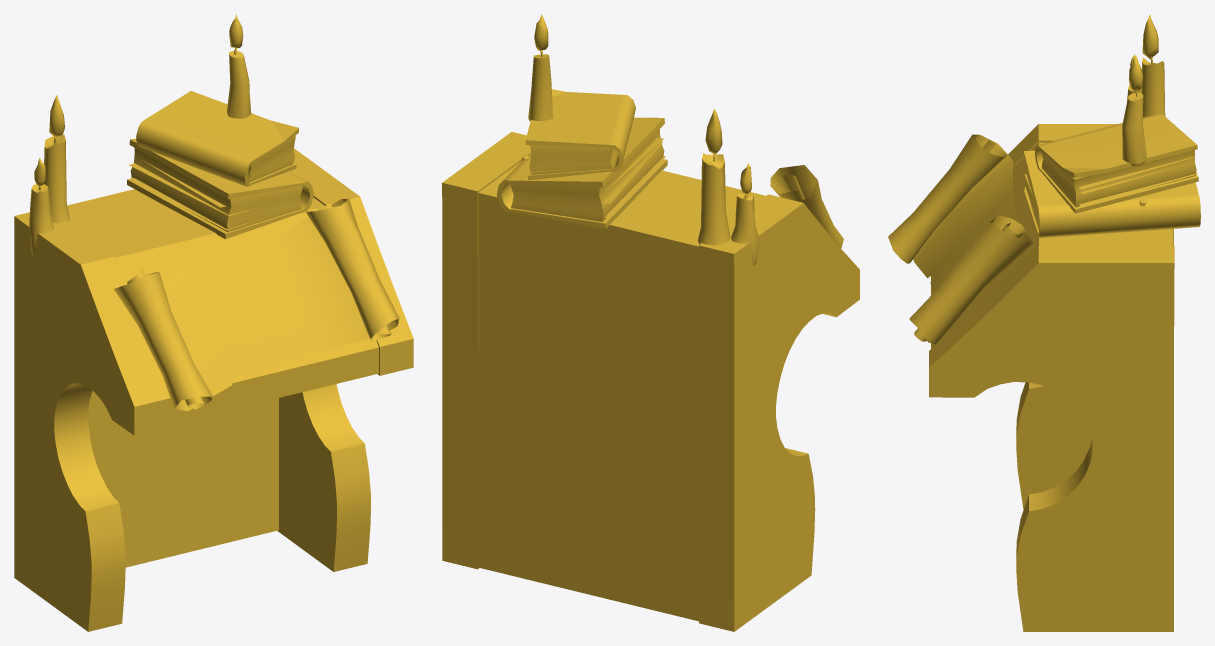
The model's file is table_low.fbx.
The picture shows the model from 3 angles, left to right: view 1: azimuth 30°, elevation 25°; view 2: azimuth 150°, elevation 25°; view 3: azimuth 270°, elevation 25°; orthographic projection. The views are drawn at different scales.
Visible parts, largest first — view 1: table_nogki_002_low, table_002_low, scroll_low, book1_006_low, book1_005_low, book1_004_low, candle1_001_low, candle3_001_low, candle2_001_low, book1_007_low, book1_0051_low; view 2: table_002_low, table_nogki_002_low, book1_006_low, book1_005_low, book1_004_low, candle1_001_low, book1_007_low, scroll_low, candle3_001_low, candle2_001_low, book1_0051_low; view 3: table_nogki_002_low, scroll_low, book1_004_low, book1_006_low, table_002_low, book1_007_low, candle3_001_low, candle1_001_low, book1_0071_low, Sphere_004_low.
Part boxes in pixels (bbox=[...]): table_nogki_002_low: bbox=[14, 148, 413, 631]; table_002_low: bbox=[67, 189, 378, 567]; scroll_low: bbox=[114, 199, 399, 411]; book1_006_low: bbox=[136, 91, 298, 186]; book1_005_low: bbox=[130, 147, 303, 232]; book1_004_low: bbox=[127, 138, 313, 239]; candle1_001_low: bbox=[44, 134, 69, 222]; candle3_001_low: bbox=[227, 51, 251, 118]; candle2_001_low: bbox=[29, 184, 53, 255]; book1_007_low: bbox=[247, 136, 295, 182]; book1_0051_low: bbox=[129, 161, 265, 230]; table_002_low: bbox=[478, 161, 765, 621]; table_nogki_002_low: bbox=[442, 132, 859, 631]; book1_006_low: bbox=[525, 89, 635, 180]; book1_005_low: bbox=[509, 129, 664, 221]; book1_004_low: bbox=[496, 117, 667, 228]; candle1_001_low: bbox=[698, 153, 730, 245]; book1_007_low: bbox=[529, 145, 617, 174]; scroll_low: bbox=[770, 165, 843, 248]; candle3_001_low: bbox=[522, 54, 553, 160]; candle2_001_low: bbox=[731, 194, 758, 265]; book1_0051_low: bbox=[602, 137, 665, 217]; table_nogki_002_low: bbox=[929, 124, 1174, 631]; scroll_low: bbox=[888, 134, 1032, 344]; book1_004_low: bbox=[1023, 150, 1200, 237]; book1_006_low: bbox=[1034, 113, 1198, 213]; table_002_low: bbox=[931, 142, 1173, 348]; book1_007_low: bbox=[1041, 150, 1196, 206]; candle3_001_low: bbox=[1122, 92, 1146, 206]; candle1_001_low: bbox=[1141, 57, 1165, 117]; book1_0071_low: bbox=[1079, 157, 1197, 206]; Sphere_004_low: bbox=[1142, 14, 1158, 59].
Bounding box in the file's own units: 191 × 342 × 180.
